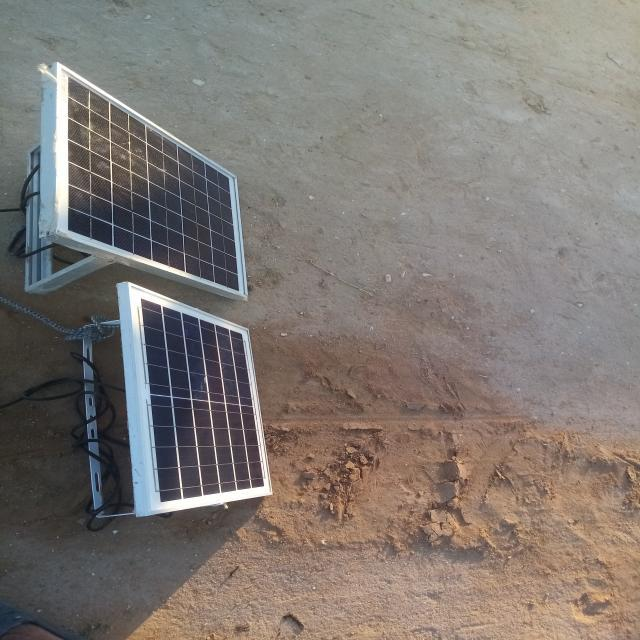no faulty: (52, 65, 247, 295), (127, 283, 273, 514)
